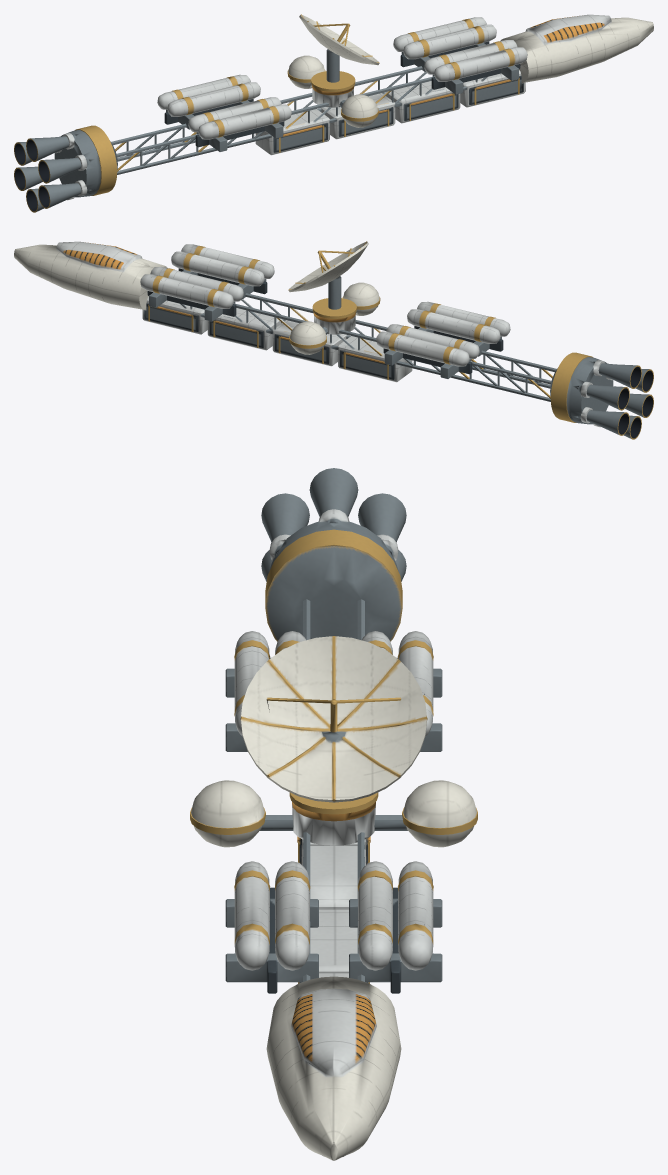
The model's file is spine-renewed.glb.
The picture shows the model from 3 angles, top to bottom: view 1: azimuth 30°, elevation 25°; view 2: azimuth 150°, elevation 25°; view 3: azimuth 270°, elevation 25°; orthographic projection. The views are drawn at different scales.
Parts seen in each view (by area): view 1: spine-renewed; view 2: spine-renewed; view 3: spine-renewed.
Part boxes in pixels (x1,y1,x2,y2): spine-renewed: (14, 14, 653, 212); spine-renewed: (14, 241, 653, 439); spine-renewed: (190, 468, 477, 1160).
Bounding box in the file's own units: 1 × 0.1902 × 0.201.
1 material, 1 textured.
